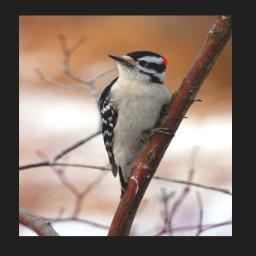Woodpecker: (100, 50, 177, 199)
